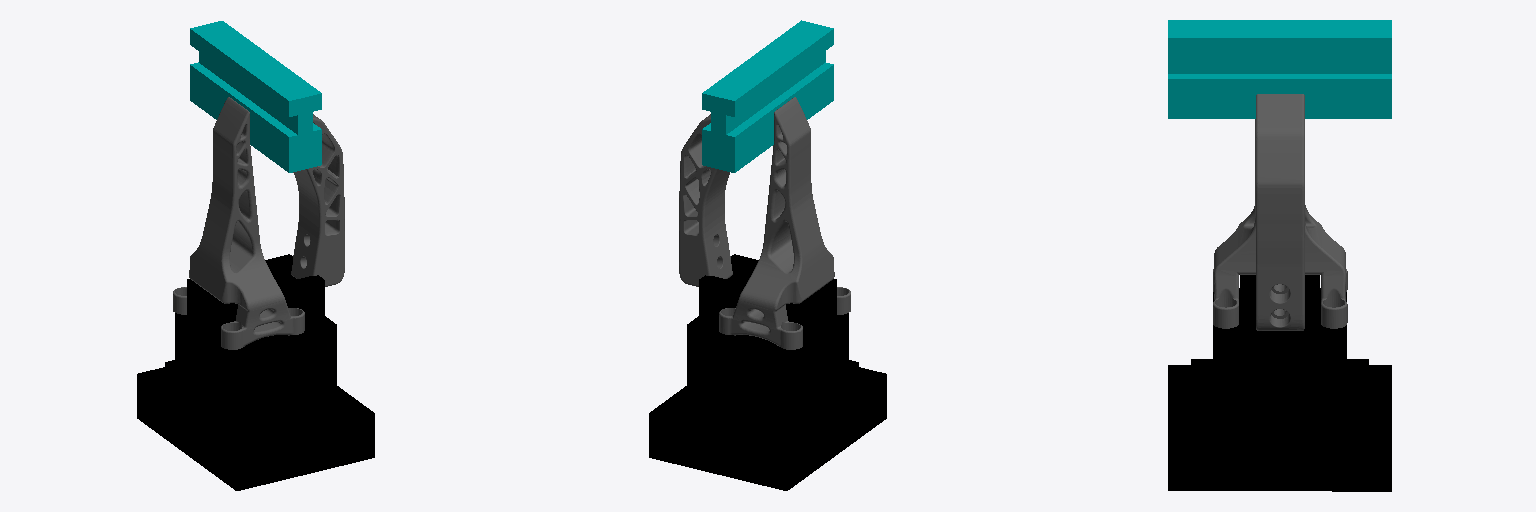
URDF robot description (iiwa14):
<?xml version="1.0" encoding="utf-8"?>
<!-- =================================================================================== -->
<!-- |    This document was autogenerated by xacro from src/iiwa_description/urdf/iiwa14.urdf.xacro | -->
<!-- |    EDITING THIS FILE BY HAND IS NOT RECOMMENDED                                 | -->
<!-- =================================================================================== -->
<robot name="iiwa14">
  <material name="Black">
    <color rgba="0.0 0.0 0.0 1.0"/>
  </material>
  <material name="Blue">
    <color rgba="0.0 0.0 0.8 1.0"/>
  </material>
  <material name="Green">
    <color rgba="0.0 0.8 0.0 1.0"/>
  </material>
  <material name="Grey">
    <color rgba="0.4 0.4 0.4 1.0"/>
  </material>
  <material name="Orange">
    <color rgba="1.0 0.423529411765 0.0392156862745 1.0"/>
  </material>
  <material name="Brown">
    <color rgba="0.870588235294 0.811764705882 0.764705882353 1.0"/>
  </material>
  <material name="Red">
    <color rgba="0.8 0.0 0.0 1.0"/>
  </material>
  <material name="White">
    <color rgba="1.0 1.0 1.0 1.0"/>
  </material>
  <!-- Fix to world just for testing -->
  <link name="world"/>
  <!--joint between {parent} and link_0-->
  <joint name="world_iiwa_joint" type="fixed">
    <origin rpy="0 0 0" xyz="0 0 0"/>
    <parent link="world"/>
    <child link="iiwa_link_0"/>
  </joint>
  <link name="iiwa_link_0">
    <inertial>
      <origin rpy="0 0 0" xyz="-0.1 0 0.07"/>
      <mass value="5"/>
      <inertia ixx="0.05" ixy="0" ixz="0" iyy="0.06" iyz="0" izz="0.03"/>
    </inertial>
    <visual>
      <origin rpy="0 0 0" xyz="0 0 0"/>
      <geometry>
        <mesh filename="package://iiwa_description/meshes/iiwa14/visual/link_0.stl"/>
      </geometry>
      <material name="Grey"/>
    </visual>
    <collision>
      <origin rpy="0 0 0" xyz="0 0 0"/>
      <geometry>
        <mesh filename="package://iiwa_description/meshes/iiwa14/collision/link_0.stl"/>
      </geometry>
      <material name="Grey"/>
    </collision>
    <self_collision_checking>
      <origin rpy="0 0 0" xyz="0 0 0"/>
      <geometry>
        <capsule length="0.25" radius="0.15"/>
      </geometry>
    </self_collision_checking>
  </link>
  <!-- joint between link_0 and link_1 -->
  <joint name="iiwa_joint_1" type="revolute">
    <parent link="iiwa_link_0"/>
    <child link="iiwa_link_1"/>
    <origin rpy="0 0 0" xyz="0 0 0.1575"/>
    <axis xyz="0 0 1"/>
    <limit effort="300" lower="-2.96705972839" upper="2.96705972839" velocity="10"/>
    <safety_controller k_position="100" k_velocity="2" soft_lower_limit="-2.93215314335" soft_upper_limit="2.93215314335"/>
    <dynamics damping="0.5"/>
  </joint>
  <link name="iiwa_link_1">
    <inertial>
      <origin rpy="0 0 0" xyz="0 -0.03 0.12"/>
      <mass value="4"/>
      <inertia ixx="0.1" ixy="0" ixz="0" iyy="0.09" iyz="0" izz="0.02"/>
    </inertial>
    <visual>
      <origin rpy="0 0 0" xyz="0 0 0"/>
      <geometry>
        <mesh filename="package://iiwa_description/meshes/iiwa14/visual/link_1.stl"/>
      </geometry>
      <material name="Orange"/>
    </visual>
    <collision>
      <origin rpy="0 0 0" xyz="0 0 0"/>
      <geometry>
        <mesh filename="package://iiwa_description/meshes/iiwa14/collision/link_1.stl"/>
      </geometry>
      <material name="Orange"/>
    </collision>
  </link>
  <!-- joint between link_1 and link_2 -->
  <joint name="iiwa_joint_2" type="revolute">
    <parent link="iiwa_link_1"/>
    <child link="iiwa_link_2"/>
    <origin rpy="1.57079632679   0 3.14159265359" xyz="0 0 0.2025"/>
    <axis xyz="0 0 1"/>
    <limit effort="300" lower="-2.09439510239" upper="2.09439510239" velocity="10"/>
    <safety_controller k_position="100" k_velocity="2" soft_lower_limit="-2.05948851735" soft_upper_limit="2.05948851735"/>
    <dynamics damping="0.5"/>
  </joint>
  <link name="iiwa_link_2">
    <inertial>
      <origin rpy="0 0 0" xyz="0.0003 0.059 0.042"/>
      <mass value="4"/>
      <inertia ixx="0.05" ixy="0" ixz="0" iyy="0.018" iyz="0" izz="0.044"/>
    </inertial>
    <visual>
      <origin rpy="0 0 0" xyz="0 0 0"/>
      <geometry>
        <mesh filename="package://iiwa_description/meshes/iiwa14/visual/link_2.stl"/>
      </geometry>
      <material name="Orange"/>
    </visual>
    <collision>
      <origin rpy="0 0 0" xyz="0 0 0"/>
      <geometry>
        <mesh filename="package://iiwa_description/meshes/iiwa14/collision/link_2.stl"/>
      </geometry>
      <material name="Orange"/>
    </collision>
  </link>
  <!-- joint between link_2 and link_3 -->
  <joint name="iiwa_joint_3" type="revolute">
    <parent link="iiwa_link_2"/>
    <child link="iiwa_link_3"/>
    <origin rpy="1.57079632679 0 3.14159265359" xyz="0 0.2045 0"/>
    <axis xyz="0 0 1"/>
    <limit effort="300" lower="-2.96705972839" upper="2.96705972839" velocity="10"/>
    <safety_controller k_position="100" k_velocity="2" soft_lower_limit="-2.93215314335" soft_upper_limit="2.93215314335"/>
    <dynamics damping="0.5"/>
  </joint>
  <link name="iiwa_link_3">
    <inertial>
      <origin rpy="0 0 0" xyz="0 0.03 0.13"/>
      <mass value="3"/>
      <inertia ixx="0.08" ixy="0" ixz="0" iyy="0.075" iyz="0" izz="0.01"/>
    </inertial>
    <visual>
      <origin rpy="0 0 0" xyz="0 0 0"/>
      <geometry>
        <mesh filename="package://iiwa_description/meshes/iiwa14/visual/link_3.stl"/>
      </geometry>
      <material name="Orange"/>
    </visual>
    <collision>
      <origin rpy="0 0 0" xyz="0 0 0"/>
      <geometry>
        <mesh filename="package://iiwa_description/meshes/iiwa14/collision/link_3.stl"/>
      </geometry>
      <material name="Orange"/>
    </collision>
  </link>
  <!-- joint between link_3 and link_4 -->
  <joint name="iiwa_joint_4" type="revolute">
    <parent link="iiwa_link_3"/>
    <child link="iiwa_link_4"/>
    <origin rpy="1.57079632679 0 0" xyz="0 0 0.2155"/>
    <axis xyz="0 0 1"/>
    <limit effort="300" lower="-2.09439510239" upper="2.09439510239" velocity="10"/>
    <safety_controller k_position="100" k_velocity="2" soft_lower_limit="-2.05948851735" soft_upper_limit="2.05948851735"/>
    <dynamics damping="0.5"/>
  </joint>
  <link name="iiwa_link_4">
    <inertial>
      <origin rpy="0 0 0" xyz="0 0.067 0.034"/>
      <mass value="2.7"/>
      <inertia ixx="0.03" ixy="0" ixz="0" iyy="0.01" iyz="0" izz="0.029"/>
    </inertial>
    <visual>
      <origin rpy="0 0 0" xyz="0 0 0"/>
      <geometry>
        <mesh filename="package://iiwa_description/meshes/iiwa14/visual/link_4.stl"/>
      </geometry>
      <material name="Orange"/>
    </visual>
    <collision>
      <origin rpy="0 0 0" xyz="0 0 0"/>
      <geometry>
        <mesh filename="package://iiwa_description/meshes/iiwa14/collision/link_4.stl"/>
      </geometry>
      <material name="Orange"/>
    </collision>
  </link>
  <!-- joint between link_4 and link_5 -->
  <joint name="iiwa_joint_5" type="revolute">
    <parent link="iiwa_link_4"/>
    <child link="iiwa_link_5"/>
    <origin rpy="-1.57079632679 3.14159265359 0" xyz="0 0.1845 0"/>
    <axis xyz="0 0 1"/>
    <limit effort="300" lower="-2.96705972839" upper="2.96705972839" velocity="10"/>
    <safety_controller k_position="100" k_velocity="2" soft_lower_limit="-2.93215314335" soft_upper_limit="2.93215314335"/>
    <dynamics damping="0.5"/>
  </joint>
  <link name="iiwa_link_5">
    <inertial>
      <origin rpy="0 0 0" xyz="0.0001 0.021 0.076"/>
      <mass value="1.7"/>
      <inertia ixx="0.02" ixy="0" ixz="0" iyy="0.018" iyz="0" izz="0.005"/>
    </inertial>
    <visual>
      <origin rpy="0 0 0" xyz="0 0 0"/>
      <geometry>
        <mesh filename="package://iiwa_description/meshes/iiwa14/visual/link_5.stl"/>
      </geometry>
      <material name="Orange"/>
    </visual>
    <collision>
      <origin rpy="0 0 0" xyz="0 0 0"/>
      <geometry>
        <mesh filename="package://iiwa_description/meshes/iiwa14/collision/link_5.stl"/>
      </geometry>
      <material name="Orange"/>
    </collision>
  </link>
  <!-- joint between link_5 and link_6 -->
  <joint name="iiwa_joint_6" type="revolute">
    <parent link="iiwa_link_5"/>
    <child link="iiwa_link_6"/>
    <origin rpy="1.57079632679 0 0" xyz="0 0 0.2155"/>
    <axis xyz="0 0 1"/>
    <limit effort="300" lower="-2.09439510239" upper="2.09439510239" velocity="10"/>
    <safety_controller k_position="100" k_velocity="2" soft_lower_limit="-2.05948851735" soft_upper_limit="2.05948851735"/>
    <dynamics damping="0.5"/>
  </joint>
  <link name="iiwa_link_6">
    <inertial>
      <origin rpy="0 0 0" xyz="0 0.0006 0.0004"/>
      <mass value="1.8"/>
      <inertia ixx="0.005" ixy="0" ixz="0" iyy="0.0036" iyz="0" izz="0.0047"/>
    </inertial>
    <visual>
      <origin rpy="0 0 0" xyz="0 0 0"/>
      <geometry>
        <mesh filename="package://iiwa_description/meshes/iiwa14/visual/link_6.stl"/>
      </geometry>
      <material name="Orange"/>
    </visual>
    <collision>
      <origin rpy="0 0 0" xyz="0 0 0"/>
      <geometry>
        <mesh filename="package://iiwa_description/meshes/iiwa14/collision/link_6.stl"/>
      </geometry>
      <material name="Orange"/>
    </collision>
  </link>
  <!-- joint between link_6 and link_7 -->
  <joint name="iiwa_joint_7" type="revolute">
    <parent link="iiwa_link_6"/>
    <child link="iiwa_link_7"/>
    <origin rpy="-1.57079632679 3.14159265359 0" xyz="0 0.081 0"/>
    <axis xyz="0 0 1"/>
    <limit effort="300" lower="-3.05432619099" upper="3.05432619099" velocity="10"/>
    <safety_controller k_position="100" k_velocity="2" soft_lower_limit="-3.01941960595" soft_upper_limit="3.01941960595"/>
    <dynamics damping="0.5"/>
  </joint>
  <link name="iiwa_link_7">
    <inertial>
      <origin rpy="0 0 0" xyz="0 0 0.02"/>
      <mass value="0.3"/>
      <inertia ixx="0.001" ixy="0" ixz="0" iyy="0.001" iyz="0" izz="0.001"/>
    </inertial>
    <visual>
      <origin rpy="0 0 0" xyz="0 0 0"/>
      <geometry>
        <mesh filename="package://iiwa_description/meshes/iiwa14/visual/link_7.stl"/>
      </geometry>
      <material name="Grey"/>
    </visual>
    <collision>
      <origin rpy="0 0 0" xyz="0 0 0"/>
      <geometry>
        <mesh filename="package://iiwa_description/meshes/iiwa14/collision/link_7.stl"/>
      </geometry>
      <material name="Grey"/>
    </collision>
  </link>
  <joint name="iiwa_joint_ee" type="fixed">
    <parent link="iiwa_link_7"/>
    <child link="iiwa_link_ee"/>
    <origin rpy="0 0 0" xyz="0 0 0.045"/>
  </joint>
  <link name="iiwa_link_ee">
    </link>
  
  <!-- gripper -->
  <joint name="gripper_joint" type="fixed">
        <origin rpy="0 0 1.57" xyz="0.04 -0.05 0"/>
        <parent link="iiwa_link_ee"/>
        <child link="gripper_link_0"/>
    </joint>
  
    <link name="gripper_link_0">
        <visual>
            <origin rpy="0 0 0" xyz="0 0 0"/>
            <geometry>
                <mesh filename="package://iiwa_description/meshes/custom_gripper_base.stl" scale="0.01 0.01 0.01"/>
            </geometry>
            <material name="Black"/>
        </visual>
    </link>
  
    <link name="finger_link_0">
        <visual>
            <origin rpy="0 0 0" xyz="0 0.01 0"/>
            <geometry>
                <mesh filename="package://iiwa_description/meshes/custom_finger_fixed.stl" scale="0.01 0.01 0.01"/>
            </geometry>
            <material name="Grey"/>
        </visual>
    </link>
    
    <link name="finger_link_1">
        <visual>
            <origin rpy="0 0 0" xyz="0 0 0"/>
            <geometry>
                <mesh filename="package://iiwa_description/meshes/custom_finger_free.stl" scale="0.01 0.01 0.01"/>
            </geometry>
            <material name="Grey"/>
        </visual>
    </link>
    
    <joint name="finger_joint_fixed" type="fixed">
        <origin rpy="0 0 0" xyz="0 0 0"/>
        <parent link="gripper_link_0"/>
        <child link="finger_link_0"/>
    </joint>
    
    <joint name="finger_joint_revolute" type="fixed">
        <origin xyz="0.05 0.021 0.078" rpy="0 0 0" />
        <axis xyz="1 0 0"/>
        <parent link="gripper_link_0"/>
        <child link="finger_link_1"/>
        <limit lower="-6.283" upper="-5.8468" effort="100" velocity="2"/>
    </joint>

    <link name="magnetic_link_0">
        <visual>
            <origin rpy="0 0 0" xyz="0 0 0"/>
            <geometry>
                <box size="0.005 0.005 0.005" />
            </geometry>
        </visual>
    </link>

    <link name="magnetic_link_1">
        <visual>
            <origin rpy="0 0 0" xyz="0 0 0"/>
            <geometry>
                <box size="0.005 0.005 0.005" />
            </geometry>
        </visual>
    </link>

    <joint name="magnetic_joint_0" type="fixed">
        <parent link="finger_link_0"/>
        <child link="magnetic_link_0"/>
        <origin rpy="0 0 0" xyz="0.05 0.0415 0.1825"/>
    </joint>

    <joint name="magnetic_joint_1" type="fixed">
        <parent link="finger_link_1"/>
        <child link="magnetic_link_1"/>
        <origin rpy="-0.175 0 0" xyz="0.00 0.0155 0.1025"/>
    </joint>



  <!-- block -->
  <link name="base_link">
		<visual>
		    <origin xyz="0 0 0" rpy="0 0 0"/>
			<geometry>
				<box size="0.019 0.1 0.009"/>
			</geometry>
			<material name="Cyan2">
	       		<color rgba="0 0.7 0.7 1.0"/>
	     	</material>
		</visual>
  
  		<collision>
		    <origin xyz="0 0 0" rpy="0 0 0"/>
			<geometry>
				<box size="0.019 0.1 0.009"/>
			</geometry>			
		</collision>
	</link>

 	<link name="medium_link">
		<visual>
		    <origin xyz="0 0.0 0.01" rpy="0 0 0"/>
			<geometry>
				<box size="0.009 0.1 0.011"/>
			</geometry>
			<material name="Cyan2">
	       		<color rgba="0 0.7 0.7 1.0"/>
	     	</material>
		</visual>
        <collision>
		    <origin xyz="0 0.0 0.01" rpy="0 0 0"/>
			<geometry>
				<box size="0.009 0.1 0.011"/>
			</geometry>
		</collision>
	</link>

 	<link name="upper_link">
		<visual>
		    <origin xyz="0 0.0 0.0255" rpy="0 0 0"/>
			<geometry>
				<box size="0.019 0.1 0.02"/>
			</geometry>
			<material name="Cyan2">
	       		<color rgba="0 0.7 0.7 1.0"/>
	     	</material>
		</visual>
        <collision>
		    <origin xyz="0 0.0 0.0255" rpy="0 0 0"/>
			<geometry>
				<box size="0.019 0.1 0.02"/>
			</geometry>
		</collision>
	</link>

  <joint name="joint_base_link_medium_link" type="fixed">
    <parent link="base_link" />
    <child link="medium_link" />
  </joint>

  <joint name="joint_medium_link_upper_link" type="fixed">
    <parent link="medium_link" />
    <child  link="upper_link" />
  </joint>

  <joint name="block_joint" type="fixed">
    <parent link="iiwa_link_ee" />
    <child  link="base_link" />
    <origin rpy="0 3.14159 0.0" xyz="0 0 0.205"/>
    <!-- <origin rpy="0 3.14159 1.57079" xyz="0 0 0.18"/> -->
  </joint>

</robot>

--- Render facts (derived) ---
The picture shows the robot from 3 angles, left to right: view 1: azimuth 30°, elevation 25°; view 2: azimuth 150°, elevation 25°; view 3: azimuth 270°, elevation 25°; orthographic projection.
Robot: iiwa14 — 18 links, 17 joints (7 revolute, 10 fixed); root link world; default pose: every joint at zero.
Visible links, largest first — view 1: gripper_link_0, finger_link_0, finger_link_1, base_link, upper_link, medium_link; view 2: gripper_link_0, finger_link_0, finger_link_1, base_link, upper_link, medium_link; view 3: gripper_link_0, finger_link_1, upper_link, base_link, finger_link_0, medium_link.
Boxes of the visible links, x1,y1,x2,y2 form: gripper_link_0: (137,254,374,490); finger_link_0: (173,97,304,349); finger_link_1: (291,114,344,286); base_link: (190,21,321,116); upper_link: (190,62,321,172); medium_link: (199,52,312,134); gripper_link_0: (649,254,886,490); finger_link_0: (719,97,850,349); finger_link_1: (679,114,732,286); base_link: (702,20,833,116); upper_link: (702,62,833,172); medium_link: (711,51,825,134); gripper_link_0: (1168,275,1391,491); finger_link_1: (1256,94,1304,330); upper_link: (1168,74,1391,118); base_link: (1168,20,1391,56); finger_link_0: (1213,119,1347,328); medium_link: (1168,57,1391,73).
Bounding box of the posed robot: 0.0858 × 0.1001 × 0.2095 m (x, y, z).
3 mesh visuals loaded from 11 distinct referenced files (3 binary STL); not drawn: 8 (reference not matched to a file when rendering).